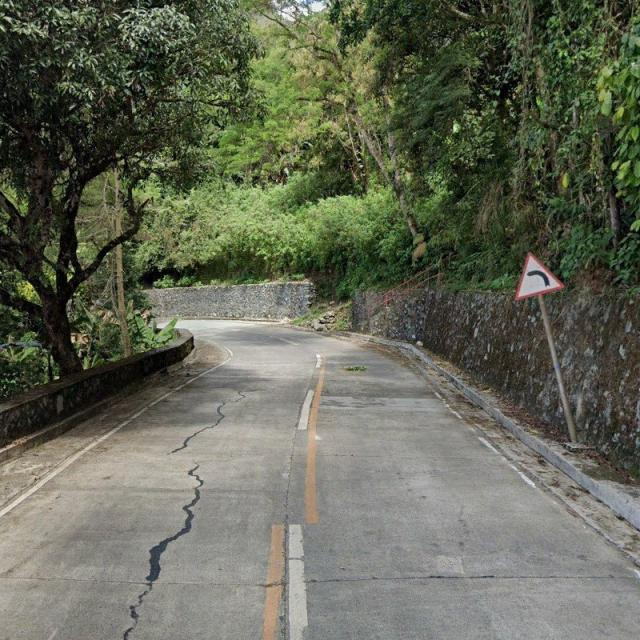warn_left_curve: (514, 252, 564, 300)
